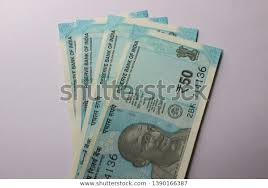fifty: (104, 56, 197, 173)
